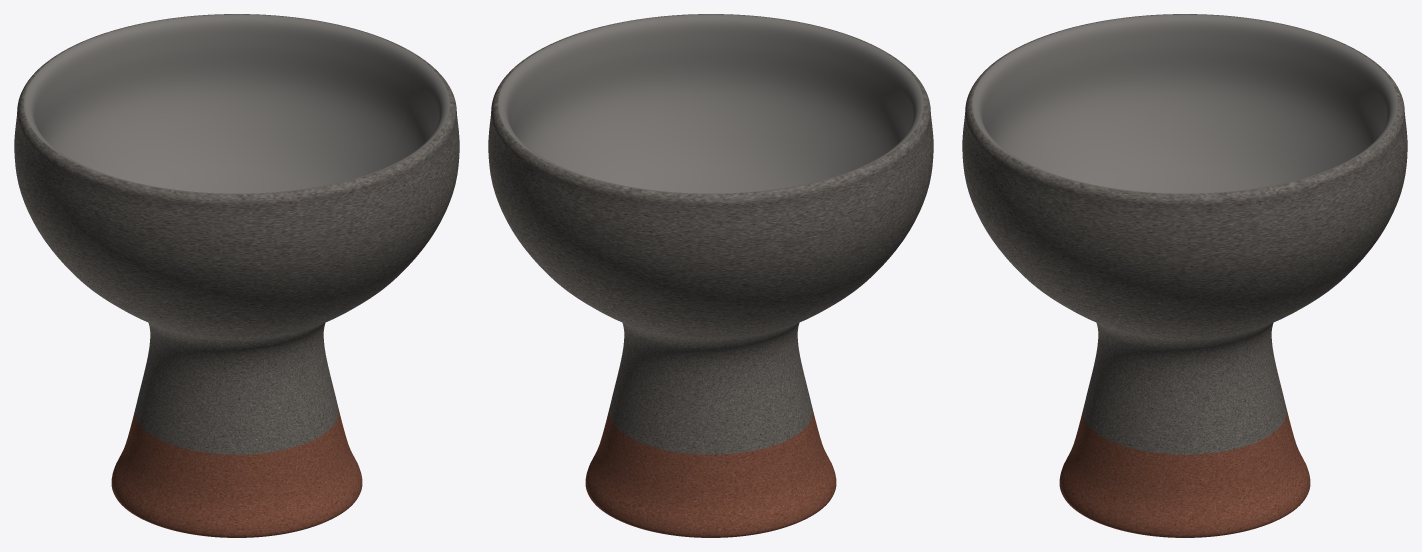
Rendered from sori-series-dam.glb.
3 views of the same model, side by side, from view 1: azimuth 30°, elevation 25°; view 2: azimuth 150°, elevation 25°; view 3: azimuth 270°, elevation 25° (orthographic).
Visible parts, largest first — view 1: DAM Sori; view 2: DAM Sori; view 3: DAM Sori.
Part boxes in pixels (left/top/right/bottom): DAM Sori: left=14, top=14, right=459, bottom=537; DAM Sori: left=488, top=14, right=933, bottom=537; DAM Sori: left=962, top=14, right=1407, bottom=537.
Bounding box in the file's own units: 1.86 × 1.77 × 1.86.
3 materials, 2 textured.
